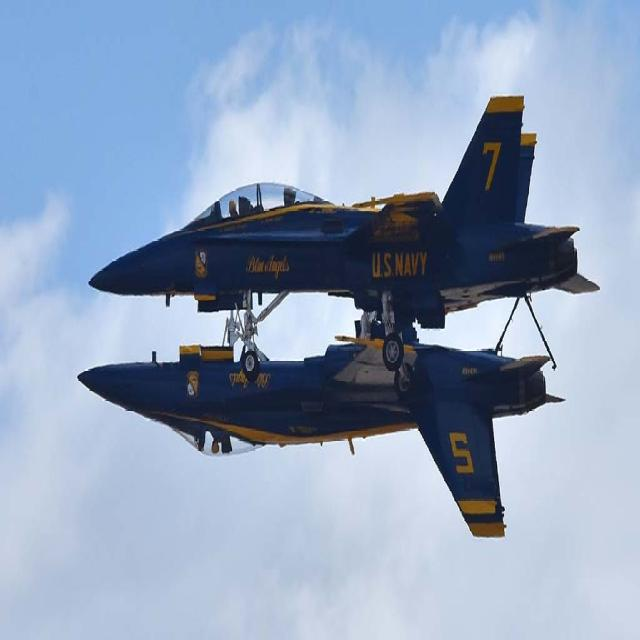MIL_Plane: (87, 95, 601, 382), (77, 293, 566, 538)
